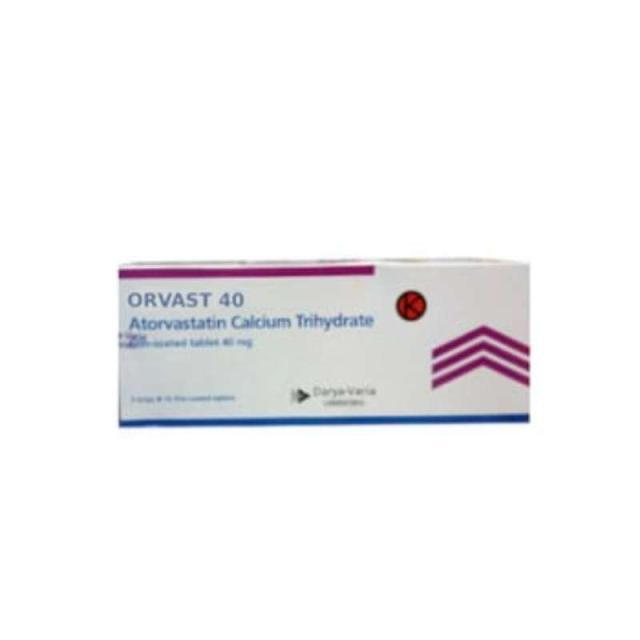drug-name: (127, 288, 247, 310)
